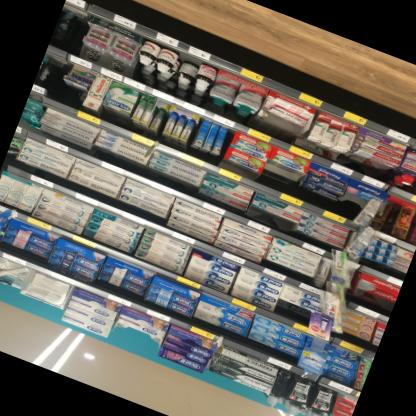empty_space: (61, 8, 92, 58)
